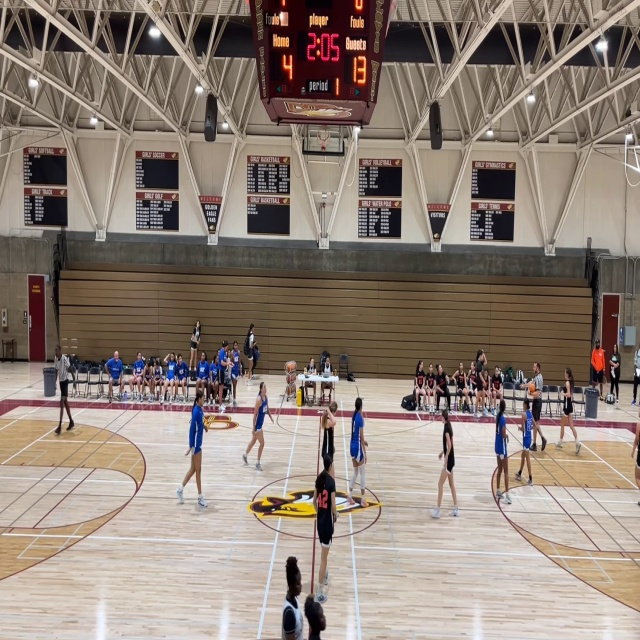Basketball: (528, 383, 536, 393)
